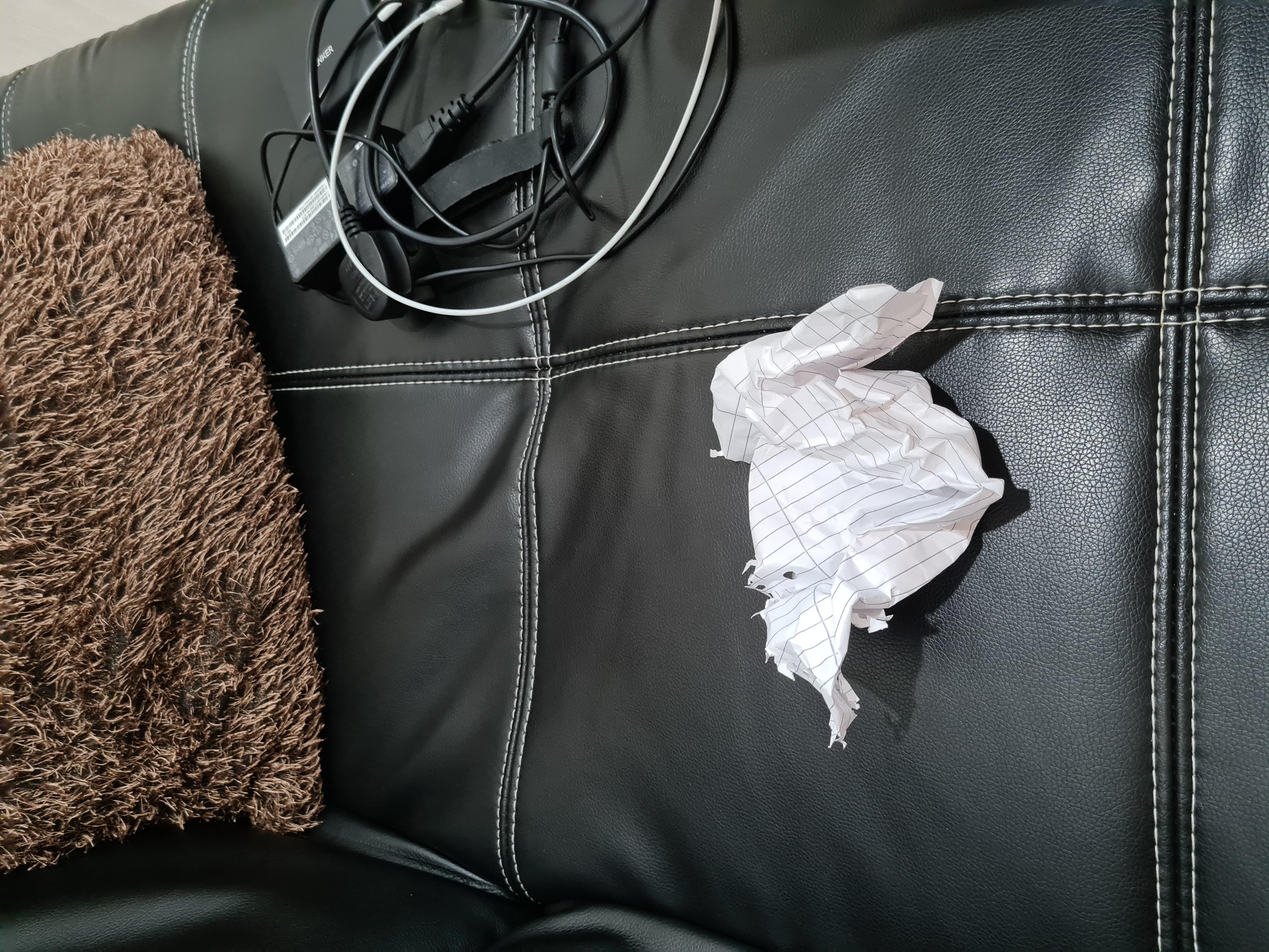paper: (265, 536, 916, 752)
